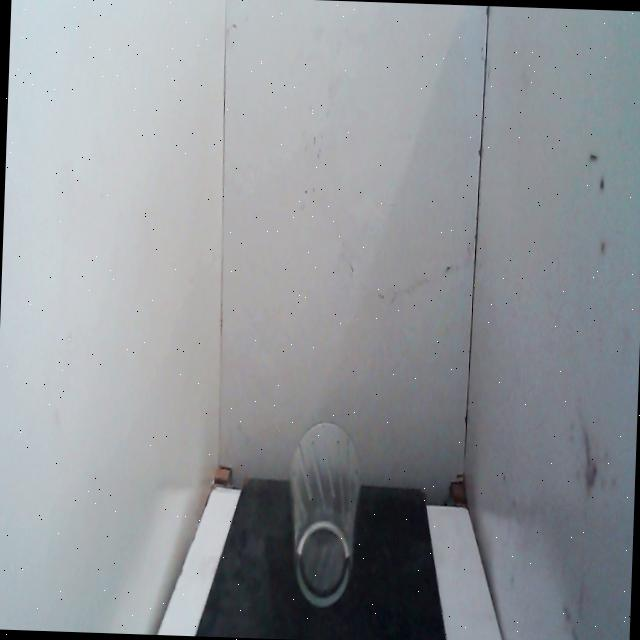vidro: (276, 413, 370, 622)
